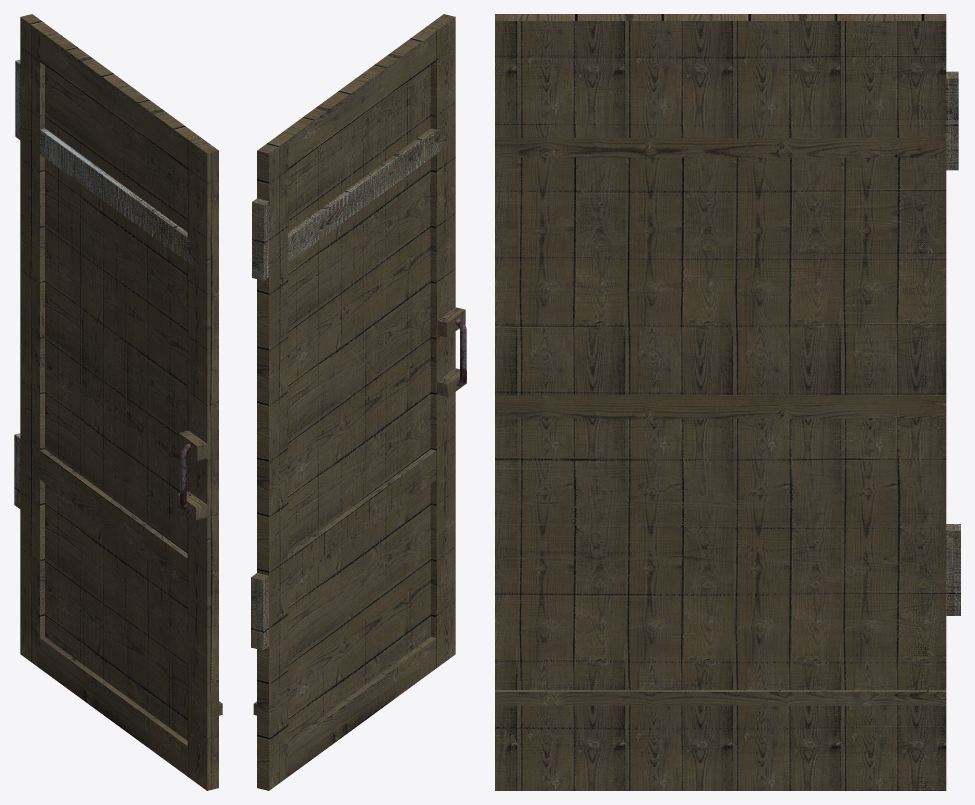
Rendered from Door.fbx.
3 renders of one model, left to right at view 1: azimuth 30°, elevation 25°; view 2: azimuth 150°, elevation 25°; view 3: azimuth 270°, elevation 25°, orthographic. The views are drawn at different scales.
Visible parts, largest first — view 1: Group1; view 2: Group1; view 3: Group1.
Boxes of the visible parts, box(x1,y1,x2,y2) form: Group1: box(14, 14, 222, 790); Group1: box(251, 14, 466, 790); Group1: box(495, 14, 960, 790).
Bounding box in the file's own units: 4.75 × 86.03 × 47.16.
